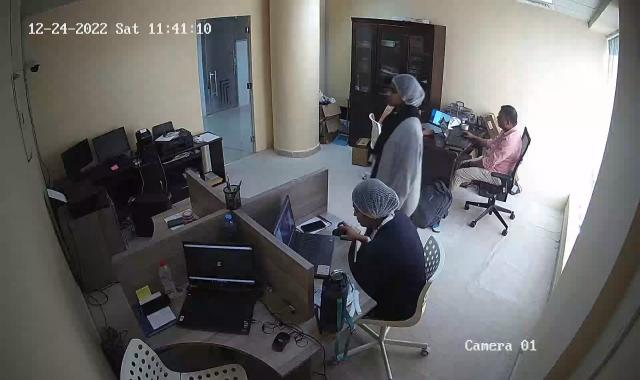hairnet: (349, 179, 400, 228), (386, 74, 426, 110)
no_hairnet: (494, 105, 519, 132)
